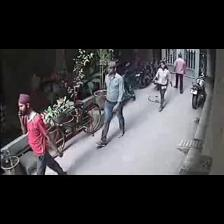person: (19, 94, 67, 174), (97, 62, 124, 146), (154, 61, 171, 111), (174, 54, 186, 93)
